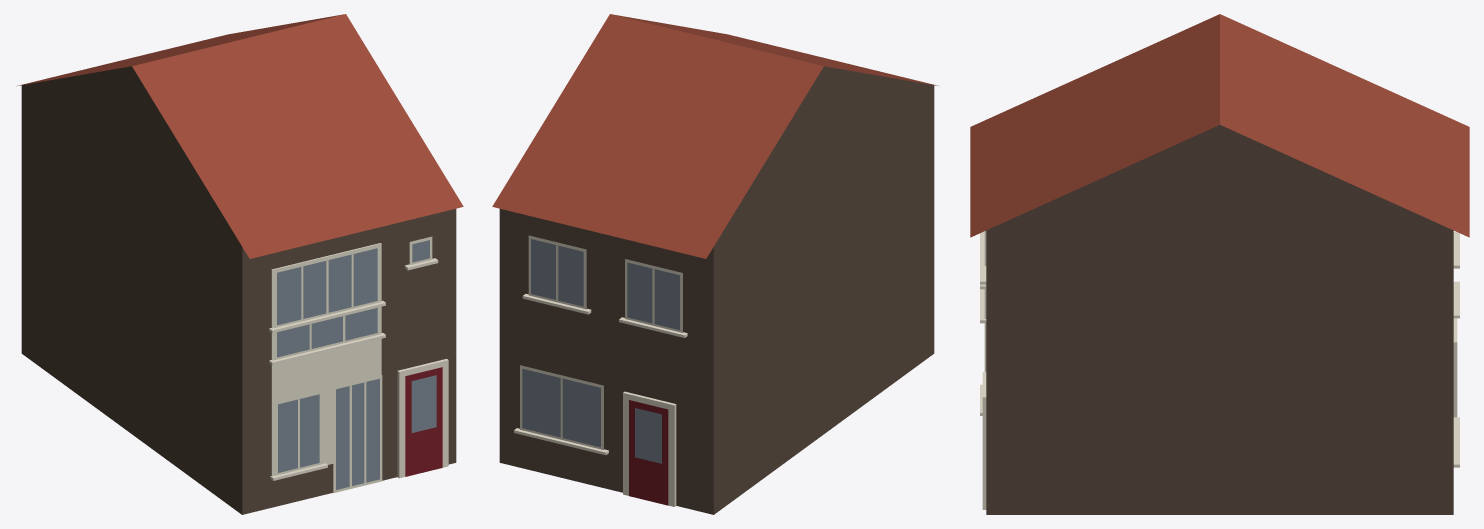
The model's file is nw-rowhouse-tall-glass__cream__2__gable__long__solid.glb.
The picture shows the model from 3 angles, left to right: view 1: azimuth 30°, elevation 25°; view 2: azimuth 150°, elevation 25°; view 3: azimuth 270°, elevation 25°; orthographic projection. The views are drawn at different scales.
Parts seen in each view (by area): view 1: nw-rowhouse-tall-glass__cream__2__gable__long__solid; view 2: nw-rowhouse-tall-glass__cream__2__gable__long__solid; view 3: nw-rowhouse-tall-glass__cream__2__gable__long__solid.
Part boxes in pixels (bbox=[...]): nw-rowhouse-tall-glass__cream__2__gable__long__solid: bbox=[16, 14, 463, 514]; nw-rowhouse-tall-glass__cream__2__gable__long__solid: bbox=[492, 14, 939, 514]; nw-rowhouse-tall-glass__cream__2__gable__long__solid: bbox=[970, 14, 1469, 514].
Bounding box in the file's own units: 4.89 × 8.03 × 9.32.
